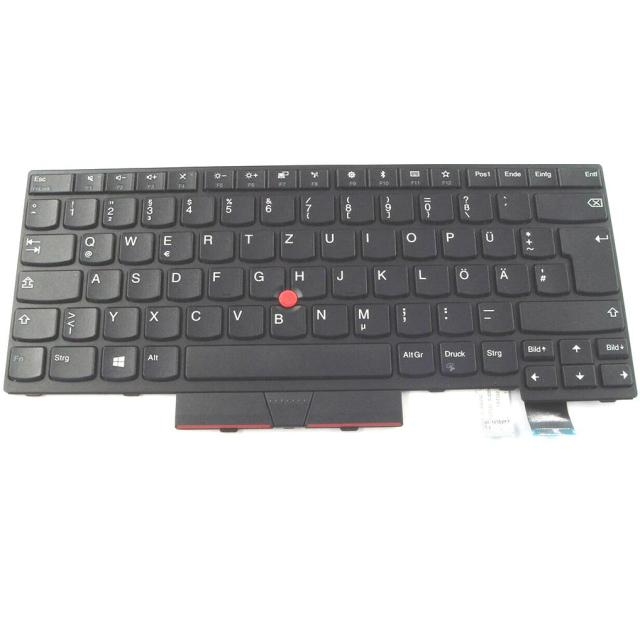0: (417, 191, 454, 222)
1: (62, 196, 97, 227)
2: (101, 196, 135, 227)
3: (140, 195, 175, 226)
4: (180, 194, 215, 225)
5: (219, 194, 255, 225)
6: (259, 193, 295, 224)
7: (299, 193, 334, 223)
8: (338, 193, 374, 224)
9: (377, 192, 413, 223)
a: (85, 267, 121, 301)
accent: (497, 191, 531, 222)
ae: (494, 262, 530, 295)
alt-left: (140, 343, 179, 379)
altgr-right: (397, 341, 435, 376)
b: (268, 303, 306, 337)
c: (184, 304, 222, 338)
caret: (24, 197, 58, 227)
comma: (394, 301, 431, 335)
d: (165, 266, 202, 299)
del: (534, 191, 606, 221)
e: (157, 230, 193, 263)
enter: (559, 224, 620, 294)
f: (206, 265, 243, 299)
g: (248, 265, 284, 298)
h: (288, 265, 325, 297)
hash: (533, 262, 568, 294)
i: (360, 227, 396, 258)
j: (330, 264, 367, 297)
k: (372, 264, 408, 296)
keyboard: (2, 162, 637, 401)
l: (412, 263, 449, 296)
less: (61, 305, 98, 339)
m: (351, 301, 390, 337)
minus: (476, 300, 514, 333)
n: (311, 303, 348, 337)
o: (399, 227, 437, 259)
oe: (454, 263, 489, 295)
p: (440, 226, 477, 258)
plus: (519, 225, 554, 258)
point: (436, 301, 473, 334)
q: (77, 232, 114, 264)
r: (197, 229, 234, 261)
s: (125, 266, 162, 300)
shift-left: (11, 306, 57, 340)
shift-lock: (14, 269, 82, 301)
shift-right: (516, 298, 624, 333)
space: (182, 342, 393, 379)
ss: (457, 191, 492, 221)
strg-left: (49, 345, 98, 380)
strg-right: (478, 338, 518, 374)
t: (238, 228, 274, 260)
tab: (19, 233, 75, 264)
u: (319, 227, 356, 260)
ue: (480, 226, 516, 258)
v: (226, 303, 264, 338)
w: (117, 231, 154, 262)
x: (143, 304, 180, 339)
y: (103, 305, 139, 339)
z: (278, 228, 315, 260)
